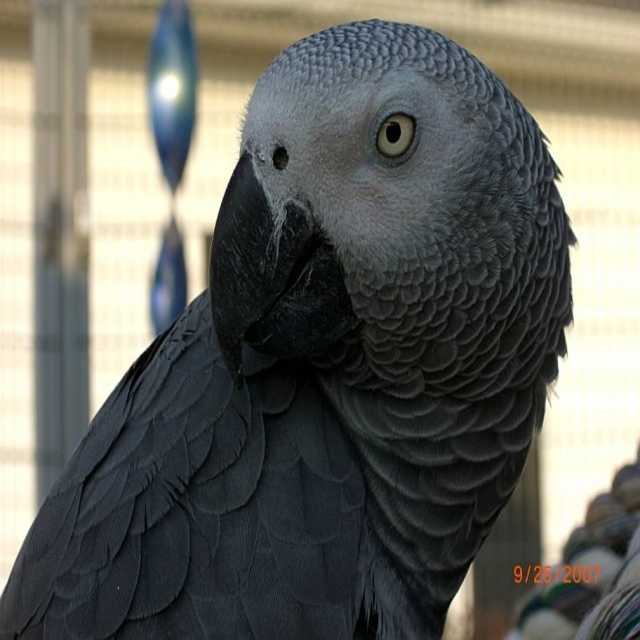Parrot: (0, 18, 579, 640)
